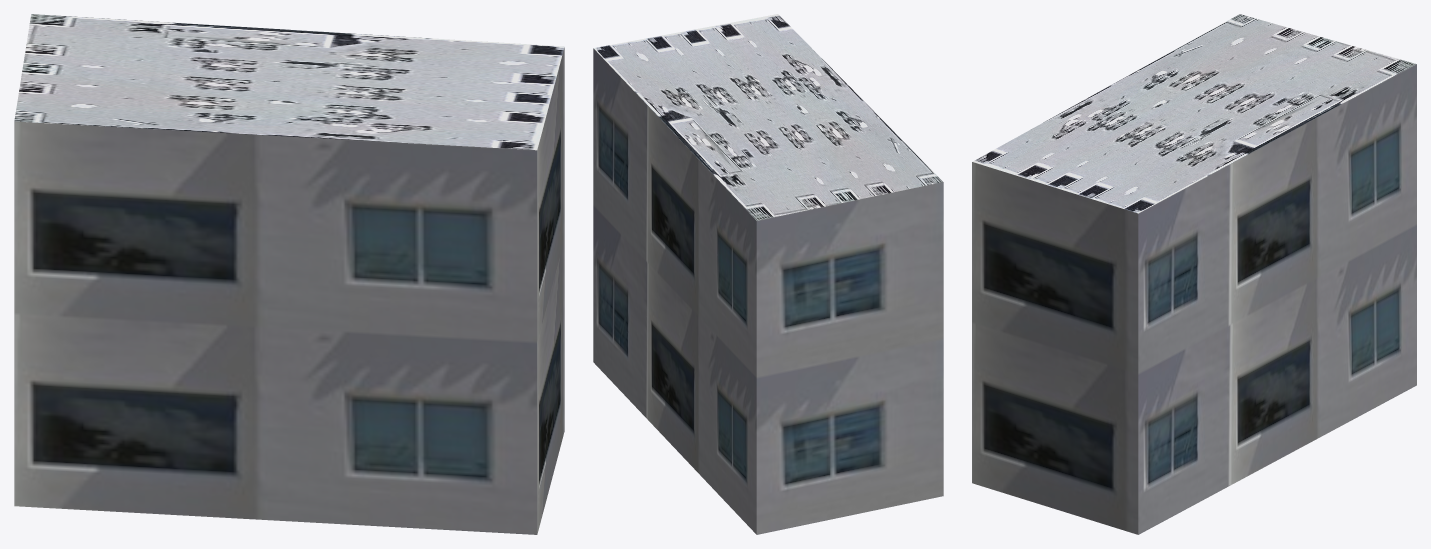
Rendered from ResTex__985.fbx.
3 views of the same model, side by side, from view 1: azimuth 30°, elevation 25°; view 2: azimuth 150°, elevation 25°; view 3: azimuth 270°, elevation 25° (orthographic). The views are drawn at different scales.
Visible parts, largest first — view 1: CityEngineMaterial_10_m, CityEngineMaterial_8_m; view 2: CityEngineMaterial_10_m, CityEngineMaterial_8_m; view 3: CityEngineMaterial_10_m, CityEngineMaterial_8_m.
Part boxes in pixels (x1,y1,x2,y2): CityEngineMaterial_10_m: (14, 47, 564, 534); CityEngineMaterial_8_m: (14, 14, 564, 150); CityEngineMaterial_10_m: (593, 48, 943, 534); CityEngineMaterial_8_m: (593, 14, 942, 220); CityEngineMaterial_10_m: (972, 64, 1416, 534); CityEngineMaterial_8_m: (972, 14, 1416, 213).
Bounding box in the file's own units: 7.99 × 6 × 7.52.
2 materials, 2 textured.
